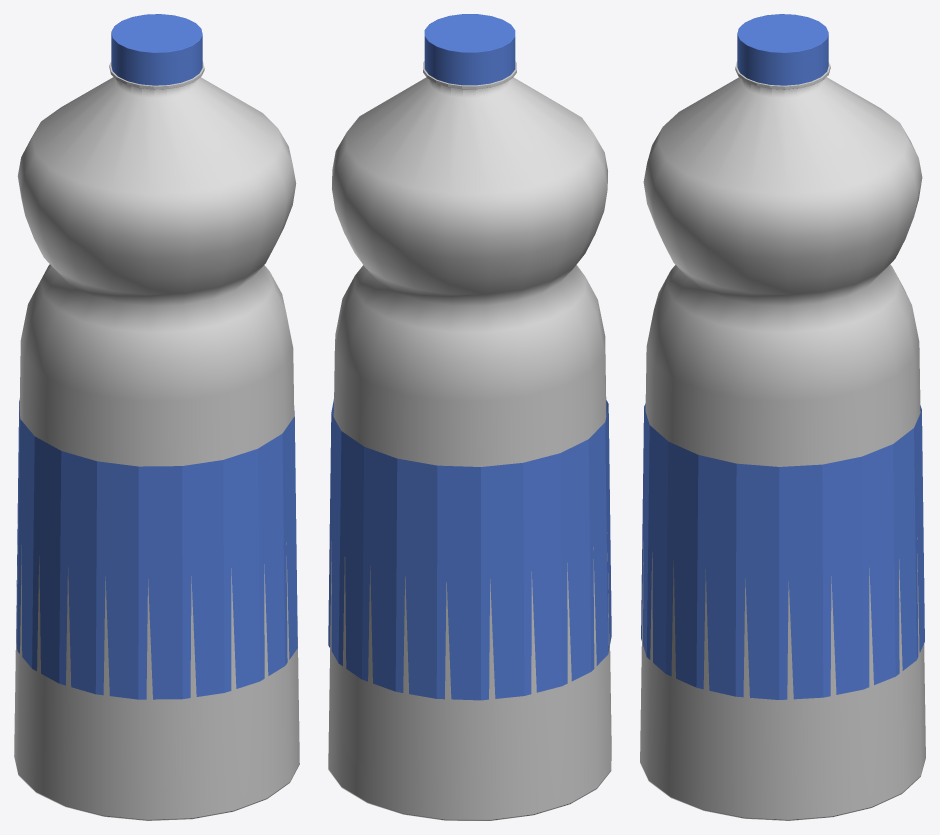
File: Bottle_6.fbx
3 views of the same model, side by side, from view 1: azimuth 30°, elevation 25°; view 2: azimuth 150°, elevation 25°; view 3: azimuth 270°, elevation 25° (orthographic).
Parts seen in each view (by area): view 1: polySurface3, bottle_name, cap; view 2: polySurface3, bottle_name, cap; view 3: polySurface3, bottle_name, cap.
Part boxes in pixels (x1,y1,x2,y2): polySurface3: [14, 61, 299, 820]; bottle_name: [16, 400, 297, 699]; cap: [111, 14, 202, 85]; polySurface3: [328, 61, 611, 820]; bottle_name: [328, 399, 611, 700]; cap: [424, 14, 515, 85]; polySurface3: [640, 61, 925, 820]; bottle_name: [641, 403, 924, 699]; cap: [737, 14, 828, 85].
Bounding box in the file's own units: 0.3535 × 0.9918 × 0.3535.
